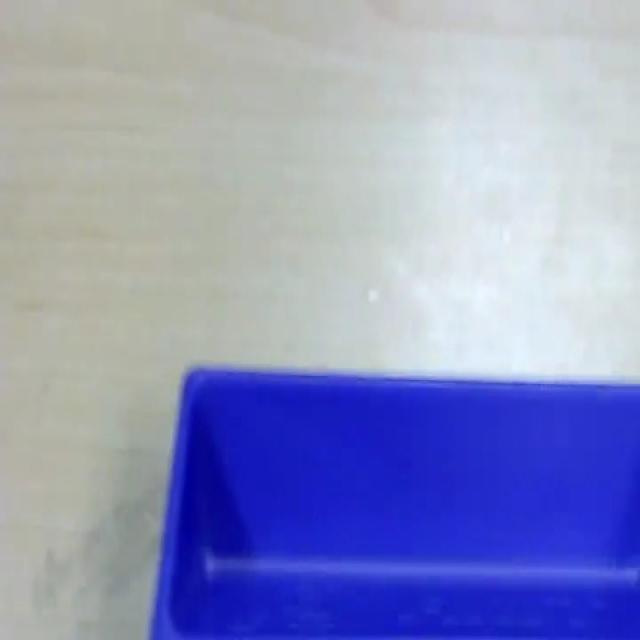blue_block: (150, 364, 640, 640)
